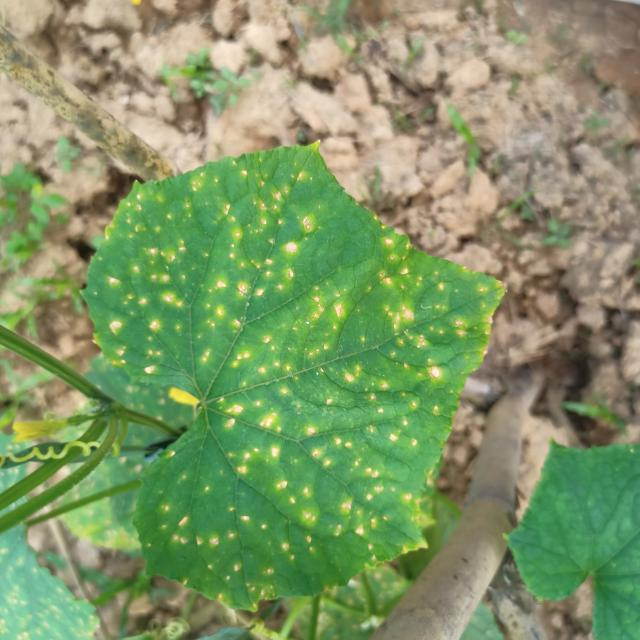disease_cucumber: (93, 168, 466, 596)
